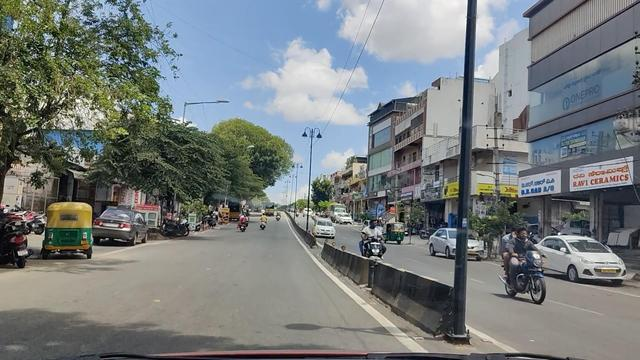LMV: (45, 200, 92, 260), (510, 229, 547, 302), (95, 207, 141, 244), (361, 219, 382, 255), (314, 220, 340, 237)
